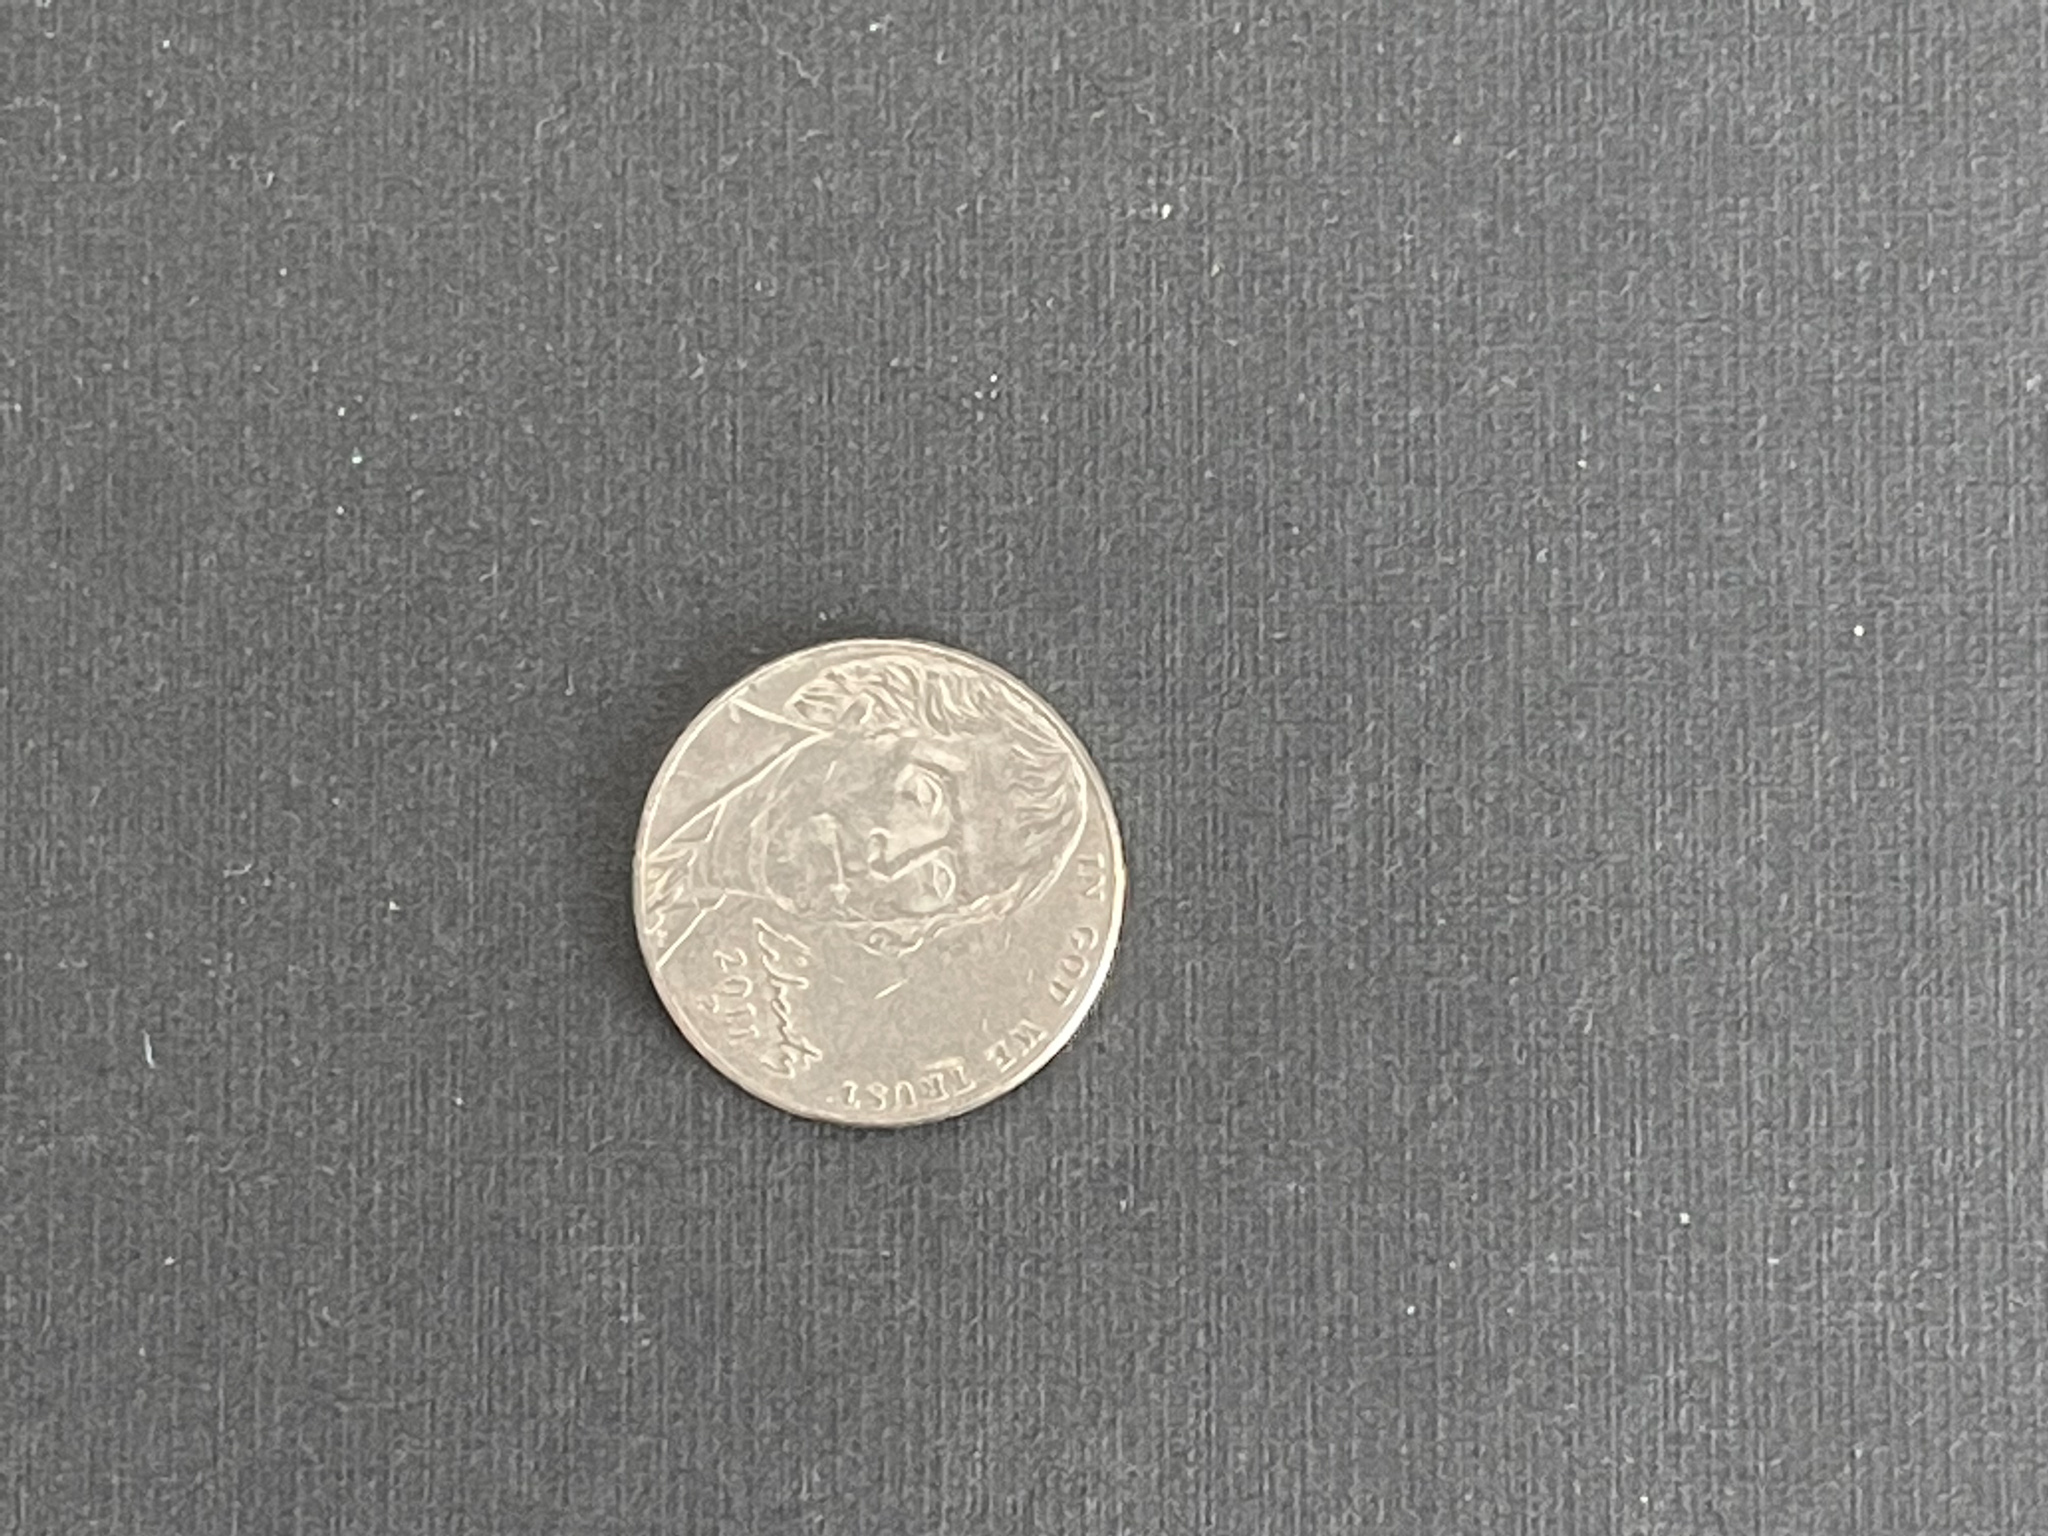nickel: (622, 632, 1134, 1133)
